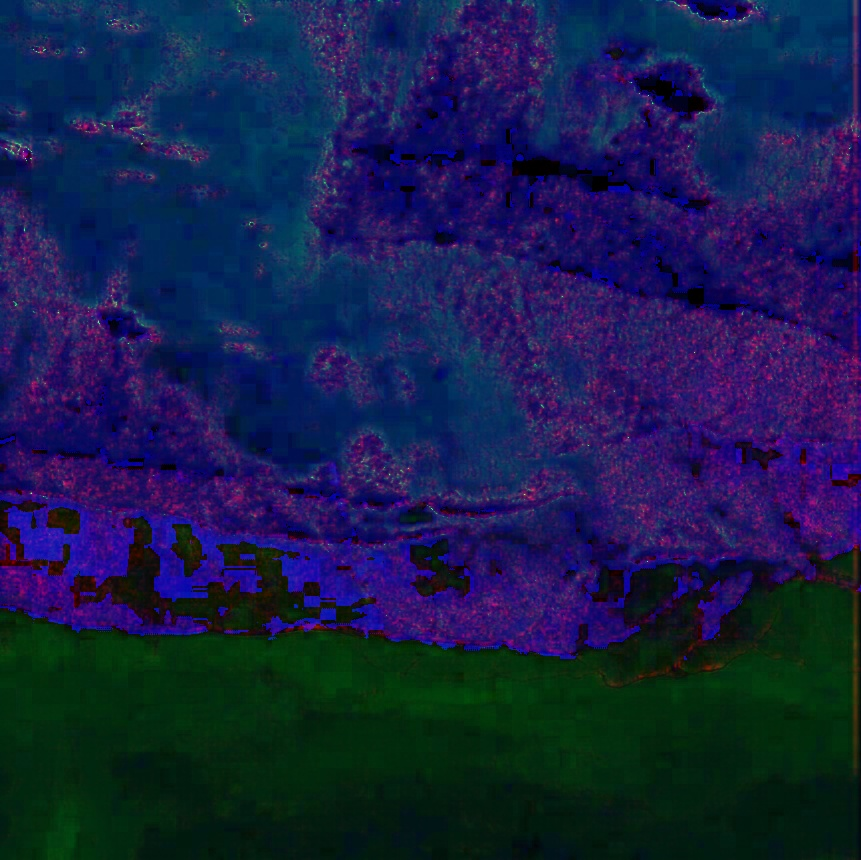rip_current: (60, 55, 570, 520)
